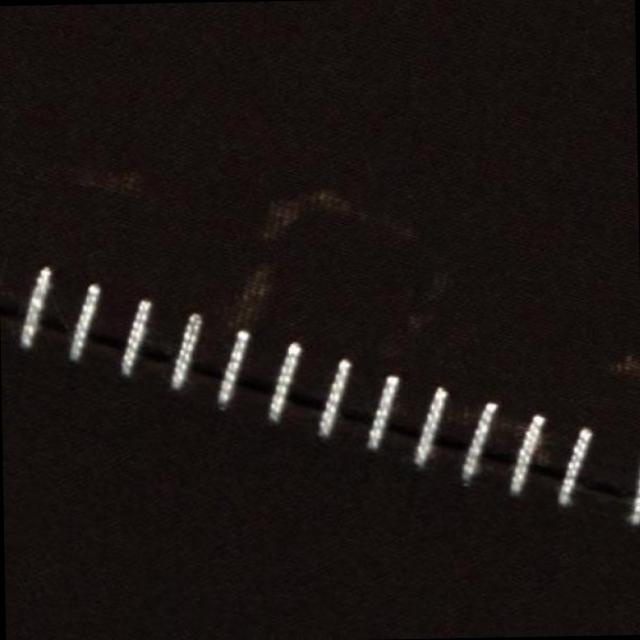gray stitch: (318, 346, 640, 525), (10, 250, 306, 424)
